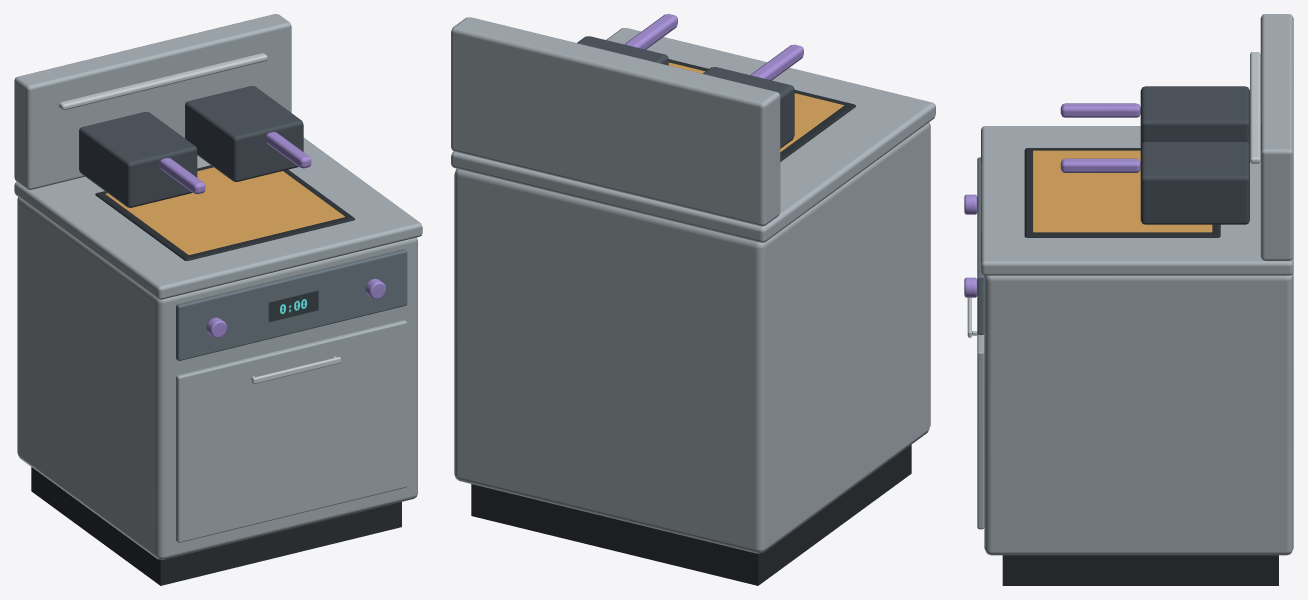
File: SM_Fryer.glb
3 renders of one model, left to right at view 1: azimuth 30°, elevation 25°; view 2: azimuth 150°, elevation 25°; view 3: azimuth 270°, elevation 25°, orthographic. The views are drawn at different scales.
Visible parts, largest first — view 1: SM_Fryer, SM_Fryer.Basket_1, SM_Fryer.Basket_2; view 2: SM_Fryer, SM_Fryer.Basket_1, SM_Fryer.Basket_2; view 3: SM_Fryer, SM_Fryer.Basket_2, SM_Fryer.Basket_1.
Boxes of the visible parts, <box> form: SM_Fryer: <box>14,14,422,585</box>; SM_Fryer.Basket_1: <box>79,111,205,207</box>; SM_Fryer.Basket_2: <box>185,86,311,181</box>; SM_Fryer: <box>451,17,935,585</box>; SM_Fryer.Basket_1: <box>703,44,803,148</box>; SM_Fryer.Basket_2: <box>577,14,677,65</box>; SM_Fryer: <box>964,14,1293,585</box>; SM_Fryer.Basket_2: <box>1060,141,1249,224</box>; SM_Fryer.Basket_1: <box>1060,86,1249,145</box>.
Bounding box in the file's own units: 0.9 × 1.34 × 0.905.
Materials: 4 (4 with a texture image).
